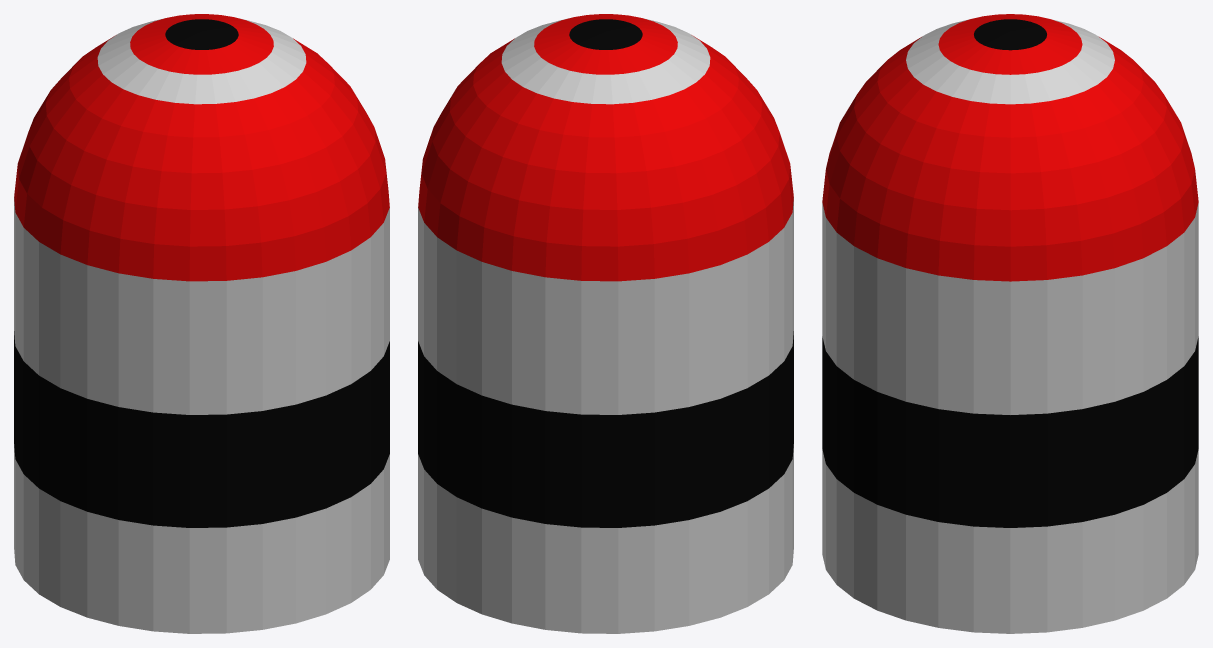
Rendered from GrenadeR.fbx.
The picture shows the model from 3 angles, left to right: view 1: azimuth 30°, elevation 25°; view 2: azimuth 150°, elevation 25°; view 3: azimuth 270°, elevation 25°; orthographic projection.
Visible parts, largest first — view 1: Cylinder; view 2: Cylinder; view 3: Cylinder.
Boxes of the visible parts, bbox=[...] form: Cylinder: bbox=[14, 14, 389, 633]; Cylinder: bbox=[418, 14, 793, 633]; Cylinder: bbox=[822, 14, 1198, 633].
Size of the model in its own units: 20 by 30.66 by 20.
